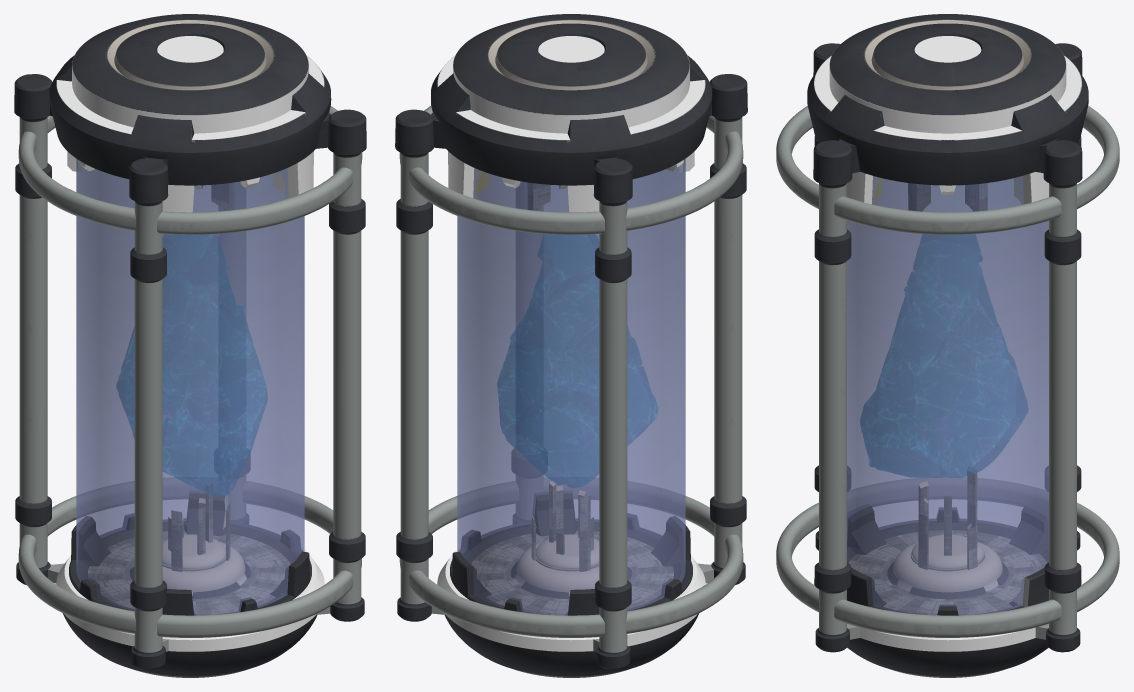
The model's file is crystal_capsule-opt.glb.
3 renders of one model, left to right at view 1: azimuth 30°, elevation 25°; view 2: azimuth 150°, elevation 25°; view 3: azimuth 270°, elevation 25°, orthographic.
Parts seen in each view (by area): view 1: A_CapsuleSealed_LOD0_M_CapsuleGlass_0, A_CapsuleSealed_LOD0_M_CapsuleSealing_0, A_CapsuleSealed_LOD0_M_CapsuleTop_0, A_CapsuleSealed_LOD0_M_CapsuleBot_0, A_Crystal_M_Crystal_0; view 2: A_CapsuleSealed_LOD0_M_CapsuleGlass_0, A_CapsuleSealed_LOD0_M_CapsuleSealing_0, A_CapsuleSealed_LOD0_M_CapsuleTop_0, A_CapsuleSealed_LOD0_M_CapsuleBot_0, A_Crystal_M_Crystal_0; view 3: A_CapsuleSealed_LOD0_M_CapsuleGlass_0, A_CapsuleSealed_LOD0_M_CapsuleSealing_0, A_CapsuleSealed_LOD0_M_CapsuleTop_0, A_Crystal_M_Crystal_0, A_CapsuleSealed_LOD0_M_CapsuleBot_0.
Part boxes in pixels (x1,y1,x2,y2): A_CapsuleSealed_LOD0_M_CapsuleGlass_0: (76,159,304,615); A_CapsuleSealed_LOD0_M_CapsuleSealing_0: (14,74,366,670); A_CapsuleSealed_LOD0_M_CapsuleTop_0: (50,14,331,212); A_CapsuleSealed_LOD0_M_CapsuleBot_0: (56,481,324,677); A_Crystal_M_Crystal_0: (116,234,267,495); A_CapsuleSealed_LOD0_M_CapsuleGlass_0: (457,159,685,615); A_CapsuleSealed_LOD0_M_CapsuleSealing_0: (395,74,747,670); A_CapsuleSealed_LOD0_M_CapsuleTop_0: (431,14,711,212); A_CapsuleSealed_LOD0_M_CapsuleBot_0: (437,481,705,677); A_Crystal_M_Crystal_0: (497,234,657,487); A_CapsuleSealed_LOD0_M_CapsuleGlass_0: (847,176,1048,615); A_CapsuleSealed_LOD0_M_CapsuleSealing_0: (776,43,1119,652); A_CapsuleSealed_LOD0_M_CapsuleTop_0: (807,14,1088,211); A_Crystal_M_Crystal_0: (860,234,1028,477); A_CapsuleSealed_LOD0_M_CapsuleBot_0: (814,468,1081,677).
Size of the model in its own units: 0.5905 by 1.15 by 0.5905.
Materials: 5 (5 with a texture image).
